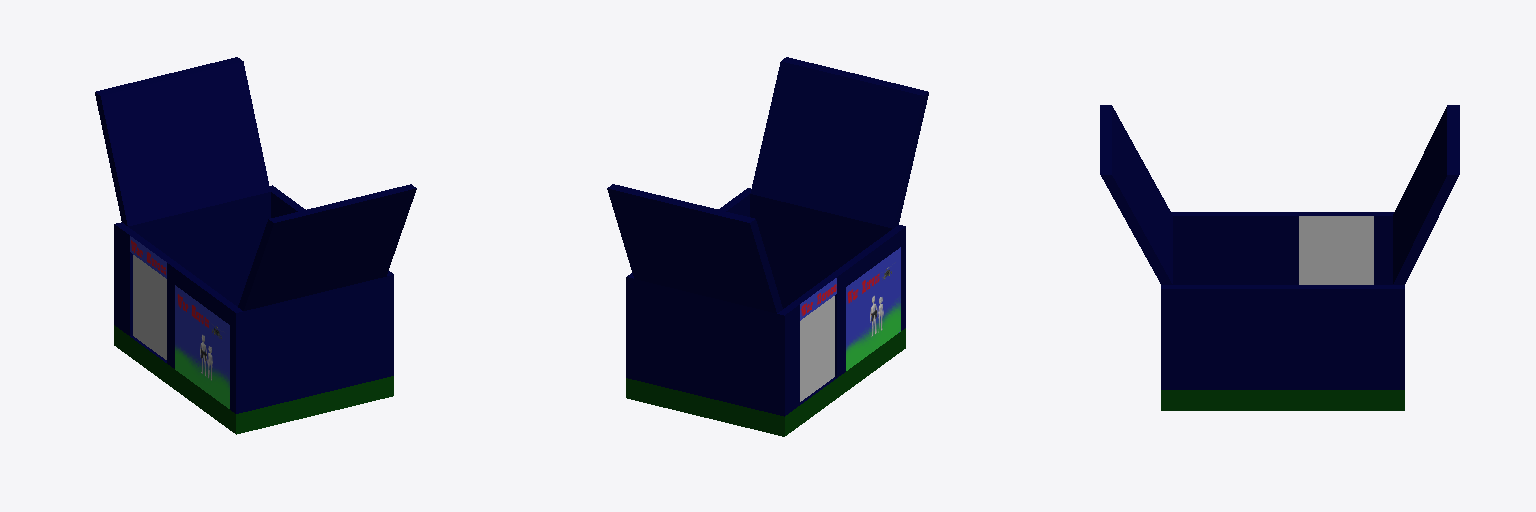
The picture shows the model from 3 angles: view 1: azimuth 30°, elevation 25°; view 2: azimuth 150°, elevation 25°; view 3: azimuth 270°, elevation 25°; orthographic projection.
Visible parts, largest first — view 1: Cube_Cube.002; view 2: Cube_Cube.002; view 3: Cube_Cube.002.
Part boxes in pixels (x1,y1,x2,y2): Cube_Cube.002: (95,57,416,434); Cube_Cube.002: (607,57,928,436); Cube_Cube.002: (1100,105,1459,410).
Size of the model in its own units: 3 by 4.2 by 5.89.
Materials: 4 (1 with a texture image).